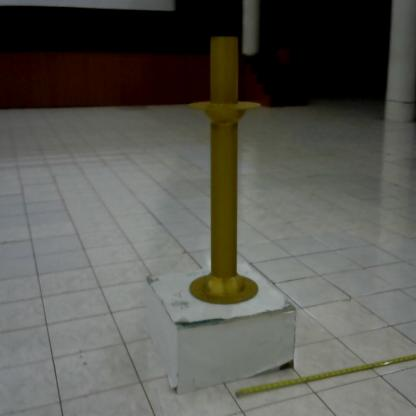pole: (178, 32, 268, 310)
